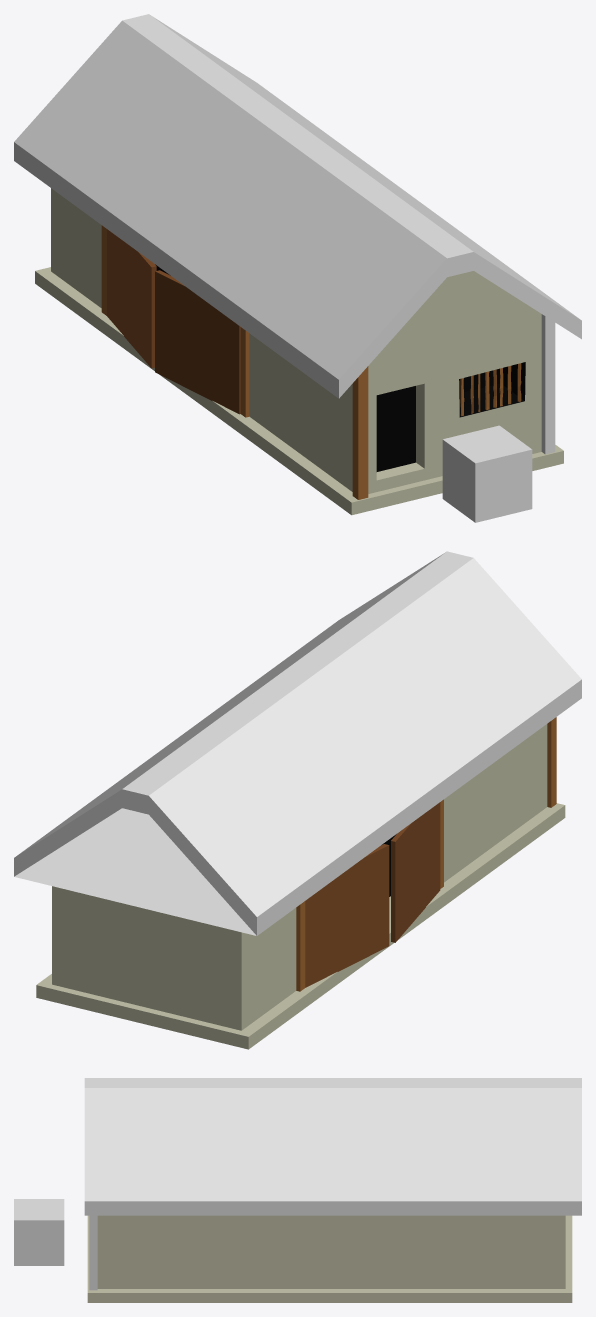
The model's file is battacks.fbx.
3 renders of one model, top to bottom at view 1: azimuth 30°, elevation 25°; view 2: azimuth 150°, elevation 25°; view 3: azimuth 270°, elevation 25°, orthographic. The views are drawn at different scales.
Parts seen in each view (by area): view 1: Cube.001, Cube.003; view 2: Cube.001; view 3: Cube.001, Cube.003.
Boxes of the visible parts, x1=… form: Cube.001: x1=14, y1=14, x2=581, y2=515; Cube.003: x1=442, y1=425, x2=532, y2=522; Cube.001: x1=14, y1=551, x2=581, y2=1049; Cube.001: x1=84, y1=1078, x2=581, y2=1302; Cube.003: x1=14, y1=1199, x2=64, y2=1265.
Bounding box in the file's own units: 854 × 792 × 2260.
